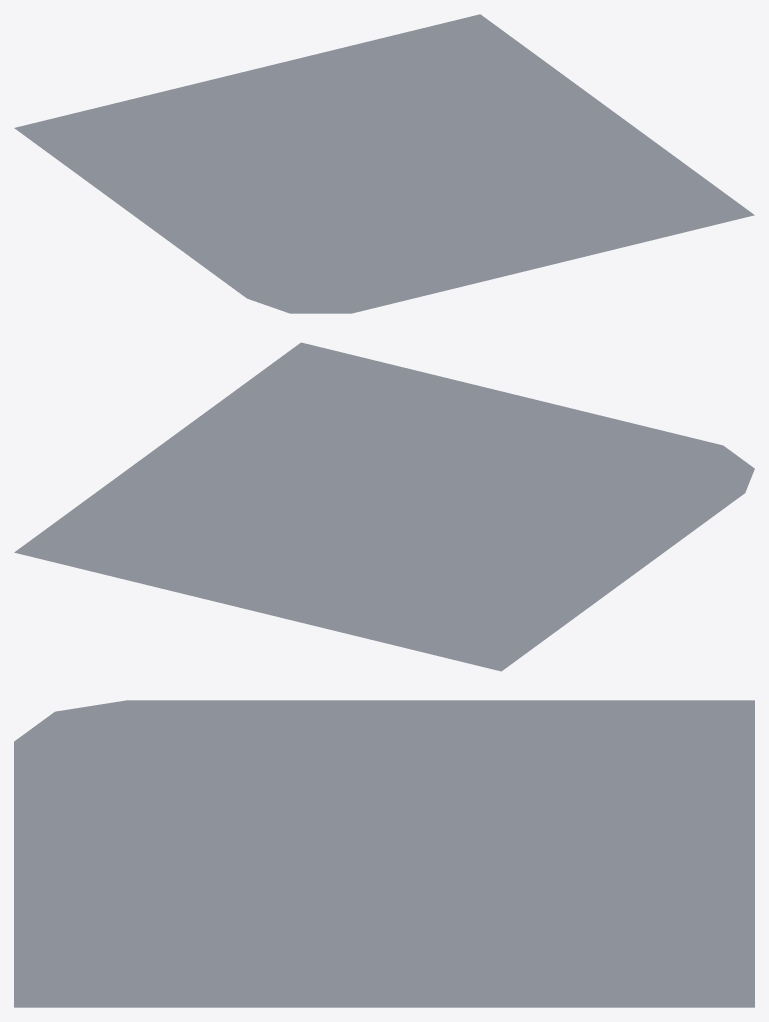
Rendered from RoadPart_09.fbx.
3 views of the same model, one above another, from view 1: azimuth 30°, elevation 25°; view 2: azimuth 150°, elevation 25°; view 3: azimuth 270°, elevation 25° (orthographic). The views are drawn at different scales.
Visible parts, largest first — view 1: RoadPart_09; view 2: RoadPart_09; view 3: RoadPart_09.
Boxes of the visible parts, box(x1,y1,x2,y2) form: RoadPart_09: box(14, 14, 754, 313); RoadPart_09: box(14, 342, 754, 671); RoadPart_09: box(14, 700, 754, 1007).
Bounding box in the file's own units: 297 × 4.96e-05 × 303.
